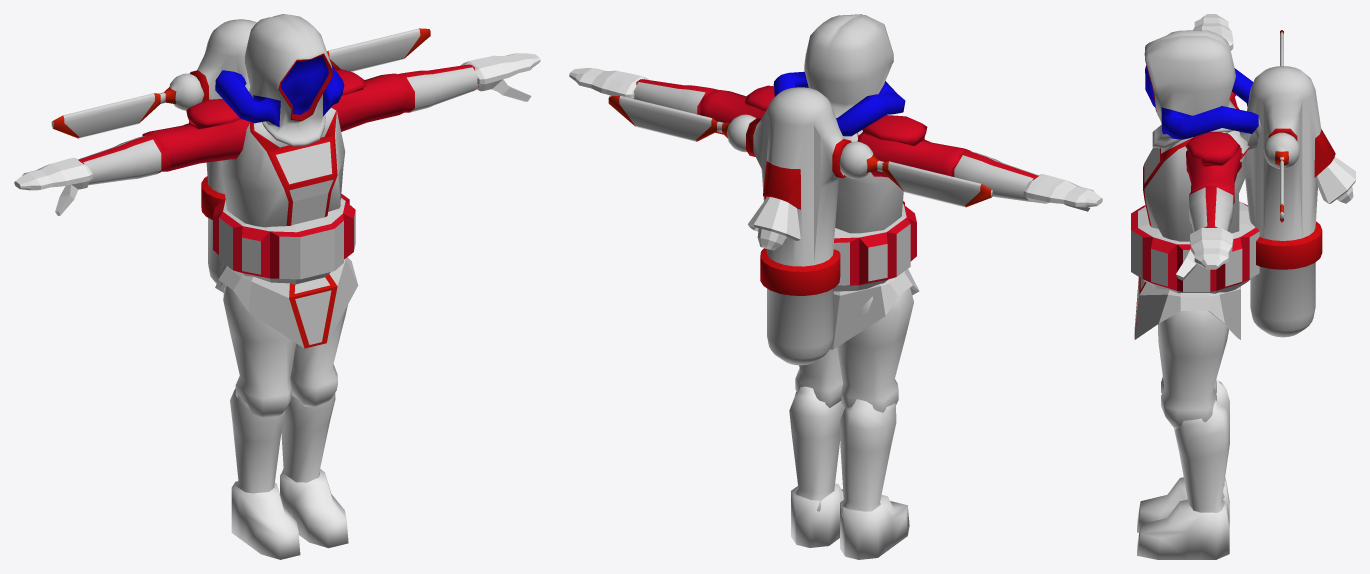
Rendered from Suit_Draft2.fbx.
The picture shows the model from 3 angles, left to right: view 1: azimuth 30°, elevation 25°; view 2: azimuth 150°, elevation 25°; view 3: azimuth 270°, elevation 25°; orthographic projection. The views are drawn at different scales.
Visible parts, largest first — view 1: Helmet, Chest, Waist, Hips, RThigh, RUpperArm, TankUnit, RBoot, WingStbd, RCalf, LBoot, LCalf (+7 smaller); view 2: TankUnit, Helmet, RThigh, RCalf, LCalf, Waist, WingStbd, RUpperArm, Chest, WingPort, RBoot, Hips (+8 smaller); view 3: TankUnit, Helmet, LThigh, Waist, Chest, LCalf, LBoot, Hips, LUpperArm, LHand, LForearm, RBoot (+4 smaller).
Boxes of the visible parts, x1,y1,x2,y2 form: Helmet: (215,14,344,146); Chest: (220,107,345,227); Waist: (213,193,355,284); Hips: (215,257,358,348); RThigh: (223,285,296,418); RUpperArm: (142,99,250,171); TankUnit: (189,19,256,283); RBoot: (231,481,300,559); WingStbd: (51,73,204,138); RCalf: (230,388,285,493); LBoot: (280,469,348,548); LCalf: (281,393,335,482); TankUnit: (746,87,851,365); Helmet: (773,14,905,136); RThigh: (837,288,913,412); RCalf: (840,399,896,516); LCalf: (789,386,844,511); Waist: (833,201,916,291); WingStbd: (839,141,992,207); RUpperArm: (857,115,971,177); Chest: (835,130,903,233); WingPort: (608,95,756,152); RBoot: (840,495,909,559); Hips: (830,269,919,349); TankUnit: (1239,66,1335,337); Helmet: (1144,30,1261,150); LThigh: (1158,311,1228,429); Waist: (1131,201,1259,293); Chest: (1143,130,1249,241); LCalf: (1174,400,1229,512); LBoot: (1137,499,1229,559); Hips: (1134,277,1240,339); LUpperArm: (1185,132,1241,204); LHand: (1176,228,1233,280); LForearm: (1189,186,1233,231); RBoot: (1137,477,1229,532).
Size of the model in its own units: 197 by 184 by 74.52.
